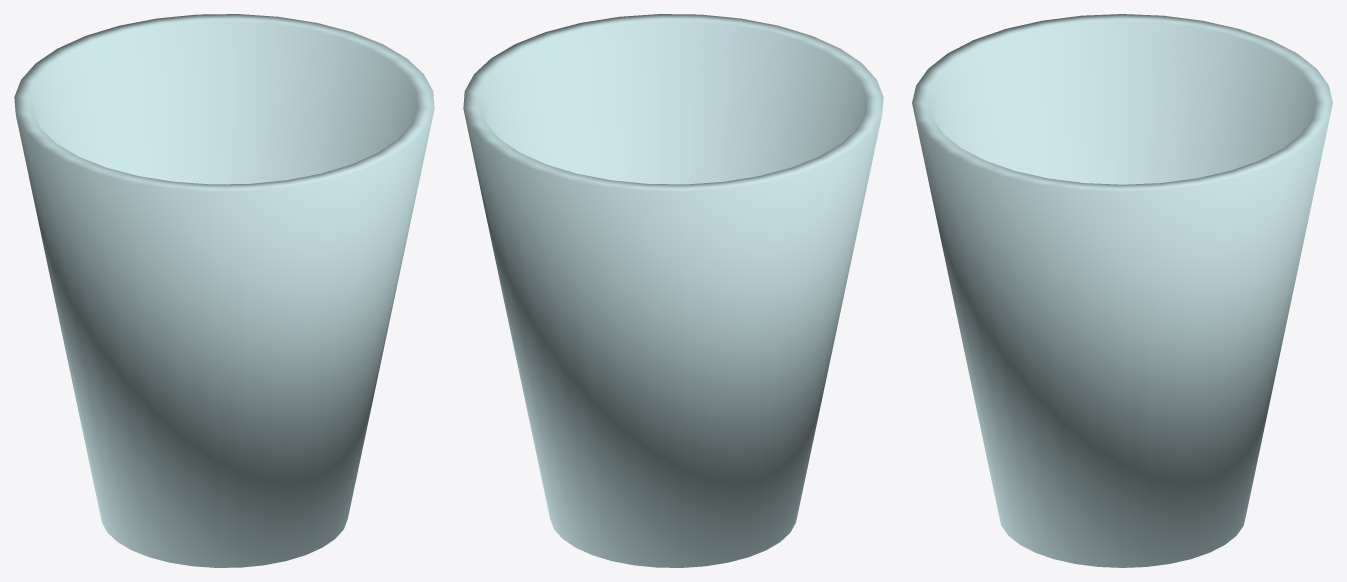
File: Cup1.fbx
3 renders of one model, left to right at view 1: azimuth 30°, elevation 25°; view 2: azimuth 150°, elevation 25°; view 3: azimuth 270°, elevation 25°, orthographic.
Visible parts, largest first — view 1: Cup1; view 2: Cup1; view 3: Cup1.
Part boxes in pixels (x1=…): Cup1: x1=14, y1=14, x2=434, y2=567; Cup1: x1=463, y1=14, x2=883, y2=567; Cup1: x1=912, y1=14, x2=1332, y2=567.
Size of the model in its own units: 14.55 by 15.75 by 14.55.
